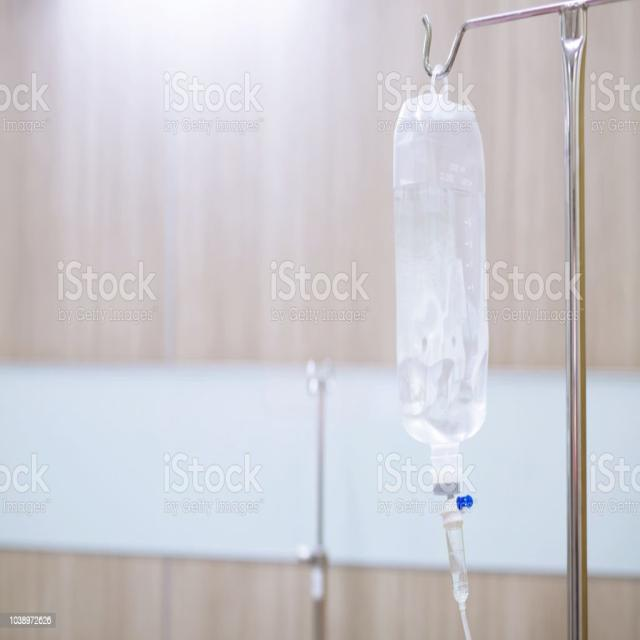B3: (392, 91, 494, 474)
